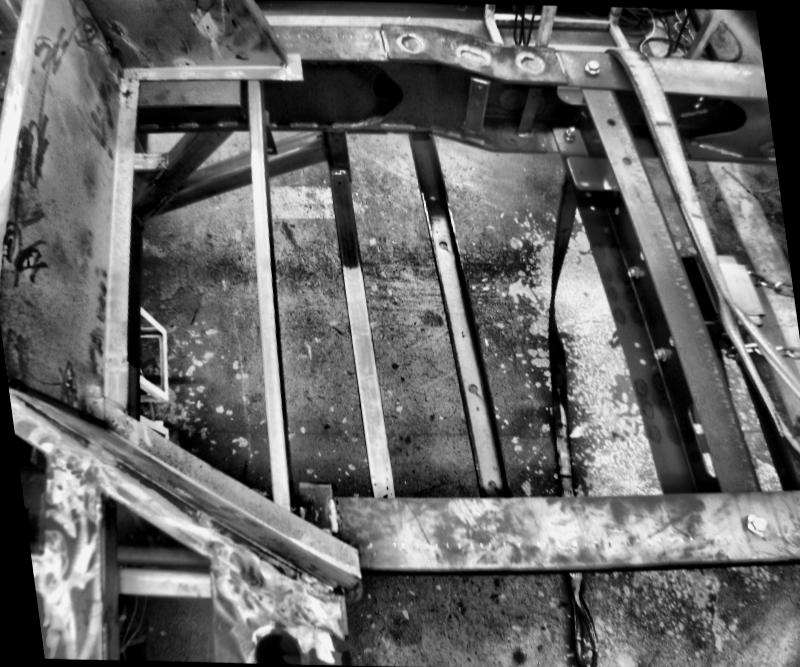bolt: (742, 512, 769, 534), (580, 58, 602, 79), (561, 126, 577, 143), (652, 347, 670, 362), (626, 265, 640, 279)
bracket: (292, 472, 348, 525), (505, 84, 545, 143), (458, 75, 494, 140), (562, 156, 620, 193), (260, 111, 282, 159)
hole: (247, 626, 307, 662), (464, 381, 480, 393), (485, 477, 497, 489), (620, 156, 632, 165), (604, 115, 615, 124), (631, 338, 643, 346), (426, 190, 435, 199), (437, 239, 447, 247), (637, 355, 645, 364), (335, 177, 343, 184), (578, 169, 584, 177), (267, 149, 275, 154), (314, 132, 320, 137)
